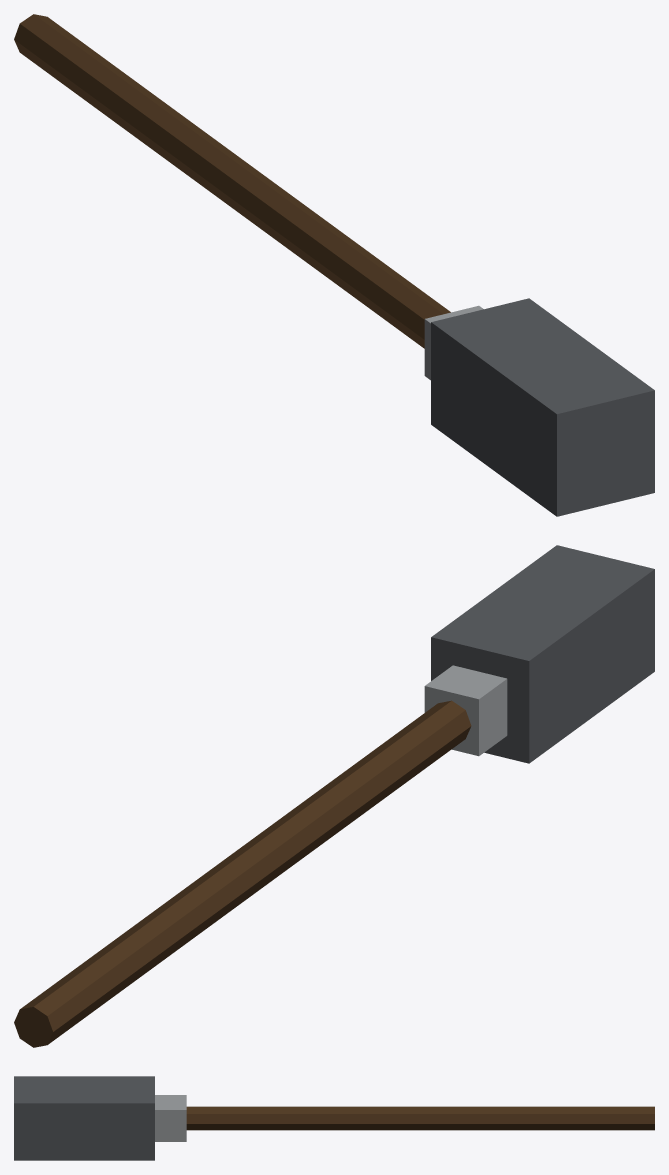
The model's file is WPN_Sledge01.glb.
3 views of the same model, one above another, from view 1: azimuth 30°, elevation 25°; view 2: azimuth 150°, elevation 25°; view 3: azimuth 270°, elevation 25° (orthographic). The views are drawn at different scales.
Visible parts, largest first — view 1: WPN_Sledge01_Head, WPN_Sledge01_Haft; view 2: WPN_Sledge01_Head, WPN_Sledge01_Haft, WPN_Sledge01_Collar; view 3: WPN_Sledge01_Head, WPN_Sledge01_Haft, WPN_Sledge01_Collar.
Part boxes in pixels (x1=…): WPN_Sledge01_Head: x1=431, y1=298, x2=654, y2=516; WPN_Sledge01_Haft: x1=14, y1=14, x2=450, y2=348; WPN_Sledge01_Head: x1=431, y1=545, x2=654, y2=763; WPN_Sledge01_Haft: x1=14, y1=700, x2=471, y2=1047; WPN_Sledge01_Collar: x1=424, y1=665, x2=507, y2=756; WPN_Sledge01_Head: x1=14, y1=1076, x2=154, y2=1160; WPN_Sledge01_Haft: x1=186, y1=1106, x2=654, y2=1130; WPN_Sledge01_Collar: x1=155, y1=1095, x2=186, y2=1141.
Bounding box in the file's own units: 0.09 × 0.09 × 0.91.
